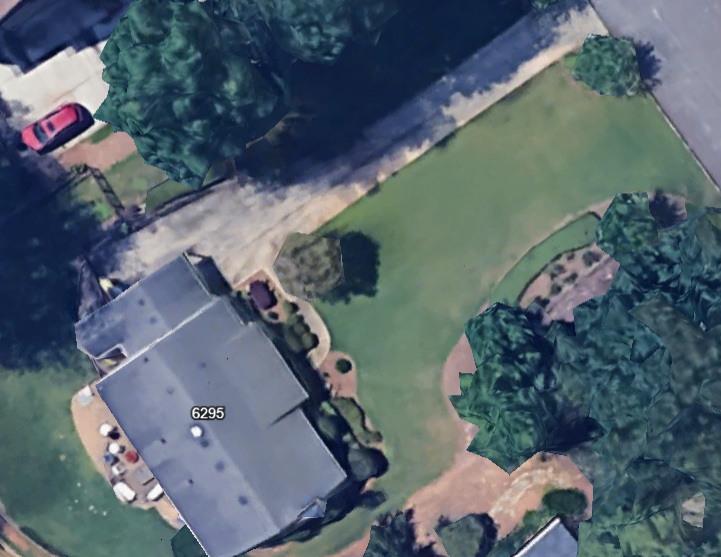driveway: (89, 0, 621, 342)
